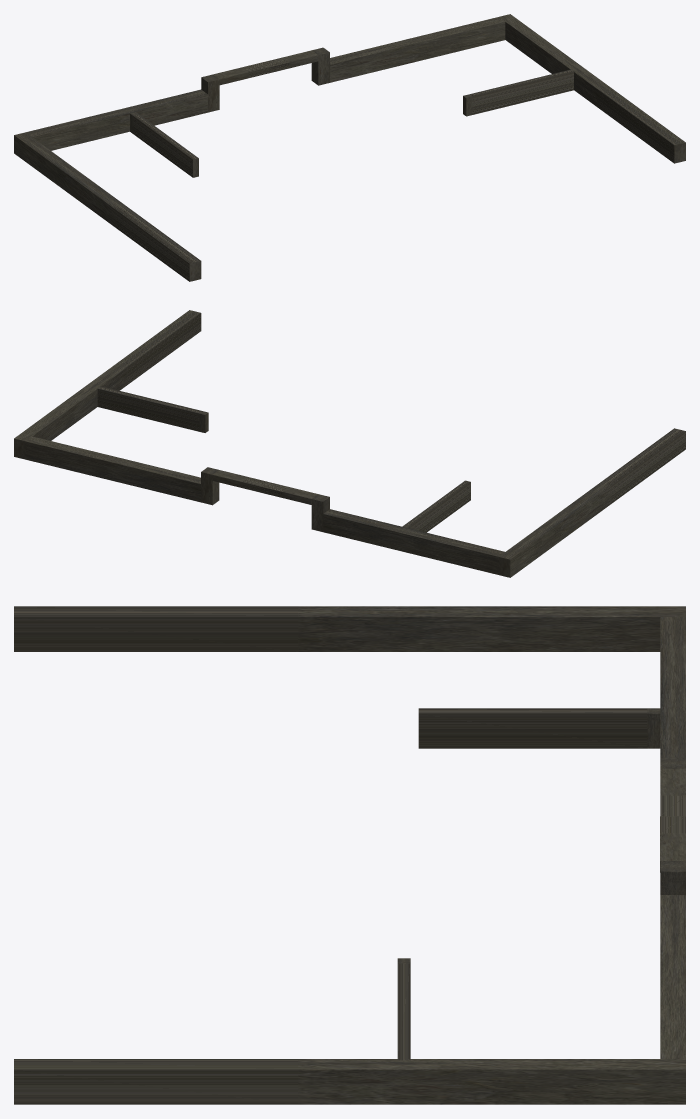
File: Lumora Gates.glb
3 views of the same model, one above another, from view 1: azimuth 30°, elevation 25°; view 2: azimuth 150°, elevation 25°; view 3: azimuth 270°, elevation 25° (orthographic). The views are drawn at different scales.
Parts seen in each view (by area): view 1: Lumora Gates; view 2: Lumora Gates; view 3: Lumora Gates.
Boxes of the visible parts, <box> form: Lumora Gates: <box>14,14,685,281</box>; Lumora Gates: <box>14,310,685,577</box>; Lumora Gates: <box>14,606,685,1104</box>.
Bounding box in the file's own units: 85.32 × 5 × 52.27.
1 material, 1 textured.
